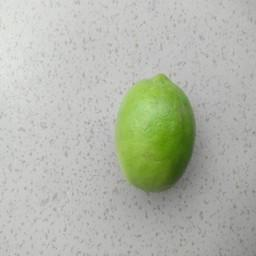Good_lime: (112, 70, 197, 199)
